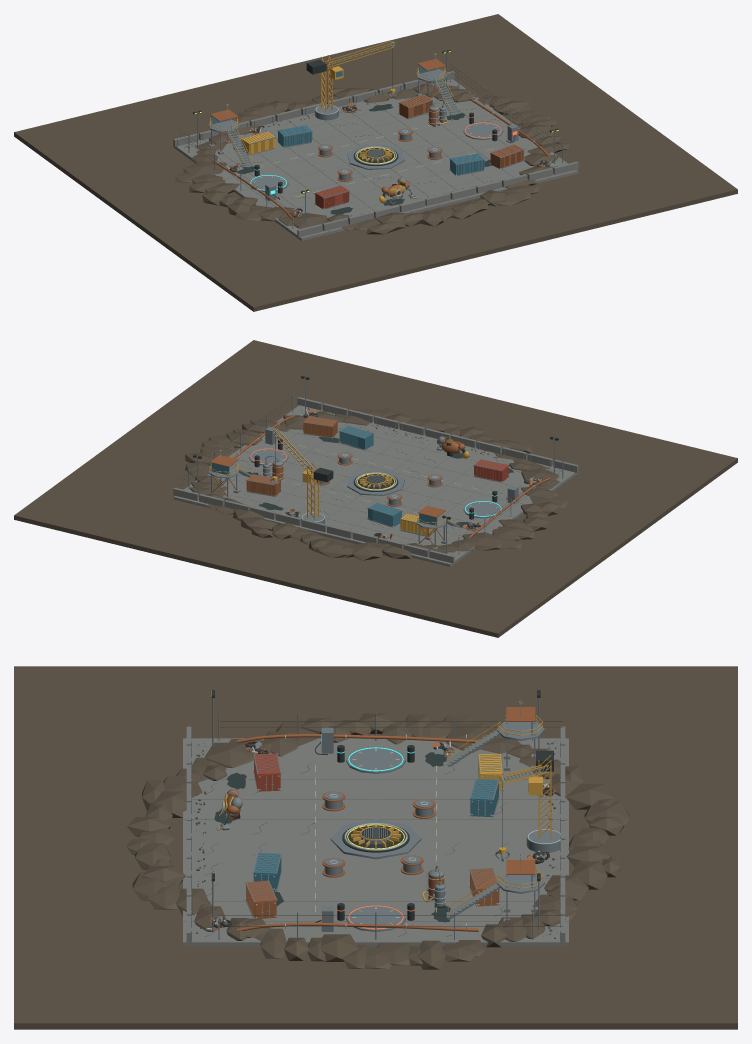
File: ferro_velho_tita.glb
3 views of the same model, one above another, from view 1: azimuth 30°, elevation 25°; view 2: azimuth 150°, elevation 25°; view 3: azimuth 270°, elevation 25° (orthographic). The views are drawn at different scales.
Parts seen in each view (by area): view 1: scrap:Terra e cascalho, scrap:Concreto poroso, scrap:Aco industrial riscado, scrap:Oxidacao cobre e ferrugem, scrap:Amarelo seguranca desgastado, scrap:Borracha e aco escurecido, scrap:Azul naval descascado, scrap:Metal exposto, scrap:Agua oleosa, scrap:Vermelho industrial; view 2: scrap:Terra e cascalho, scrap:Concreto poroso, scrap:Aco industrial riscado, scrap:Oxidacao cobre e ferrugem, scrap:Amarelo seguranca desgastado, scrap:Borracha e aco escurecido, scrap:Azul naval descascado, scrap:Vermelho industrial, scrap:Metal exposto; view 3: scrap:Terra e cascalho, scrap:Concreto poroso, scrap:Aco industrial riscado, scrap:Oxidacao cobre e ferrugem, scrap:Borracha e aco escurecido, scrap:Amarelo seguranca desgastado, scrap:Azul naval descascado, scrap:Metal exposto, scrap:Agua oleosa, scrap:Vermelho industrial.
Part boxes in pixels (left/top/right/bottom): scrap:Terra e cascalho: left=14, top=14, right=737, bottom=311; scrap:Concreto poroso: left=173, top=71, right=578, bottom=240; scrap:Aco industrial riscado: left=177, top=43, right=574, bottom=229; scrap:Oxidacao cobre e ferrugem: left=210, top=55, right=554, bottom=220; scrap:Amarelo seguranca desgastado: left=210, top=40, right=459, bottom=203; scrap:Borracha e aco escurecido: left=180, top=45, right=559, bottom=219; scrap:Azul naval descascado: left=212, top=66, right=484, bottom=175; scrap:Metal exposto: left=216, top=41, right=558, bottom=215; scrap:Agua oleosa: left=236, top=104, right=492, bottom=214; scrap:Vermelho industrial: left=315, top=185, right=349, bottom=208; scrap:Terra e cascalho: left=14, top=340, right=737, bottom=637; scrap:Concreto poroso: left=173, top=397, right=578, bottom=566; scrap:Aco industrial riscado: left=177, top=377, right=574, bottom=555; scrap:Oxidacao cobre e ferrugem: left=210, top=410, right=550, bottom=546; scrap:Amarelo seguranca desgastado: left=210, top=428, right=468, bottom=535; scrap:Borracha e aco escurecido: left=179, top=375, right=561, bottom=552; scrap:Azul naval descascado: left=211, top=426, right=436, bottom=526; scrap:Vermelho industrial: left=474, top=459, right=508, bottom=481; scrap:Metal exposto: left=219, top=409, right=536, bottom=539; scrap:Terra e cascalho: left=14, top=666, right=737, bottom=1029; scrap:Concreto poroso: left=183, top=726, right=568, bottom=946; scrap:Aco industrial riscado: left=191, top=692, right=560, bottom=941; scrap:Oxidacao cobre e ferrugem: left=208, top=707, right=555, bottom=931; scrap:Borracha e aco escurecido: left=204, top=690, right=562, bottom=936; scrap:Amarelo seguranca desgastado: left=219, top=715, right=551, bottom=917; scrap:Azul naval descascado: left=253, top=722, right=532, bottom=890; scrap:Metal exposto: left=206, top=700, right=560, bottom=929; scrap:Agua oleosa: left=214, top=752, right=451, bottom=922; scrap:Vermelho industrial: left=254, top=753, right=280, bottom=791.
Size of the model in its own units: 140 by 21.68 by 120.
